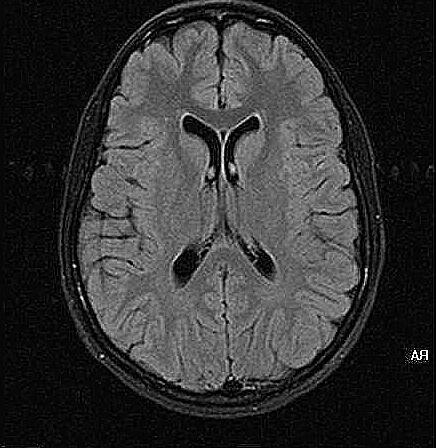Normal_Brain: (1, 1, 435, 448)
